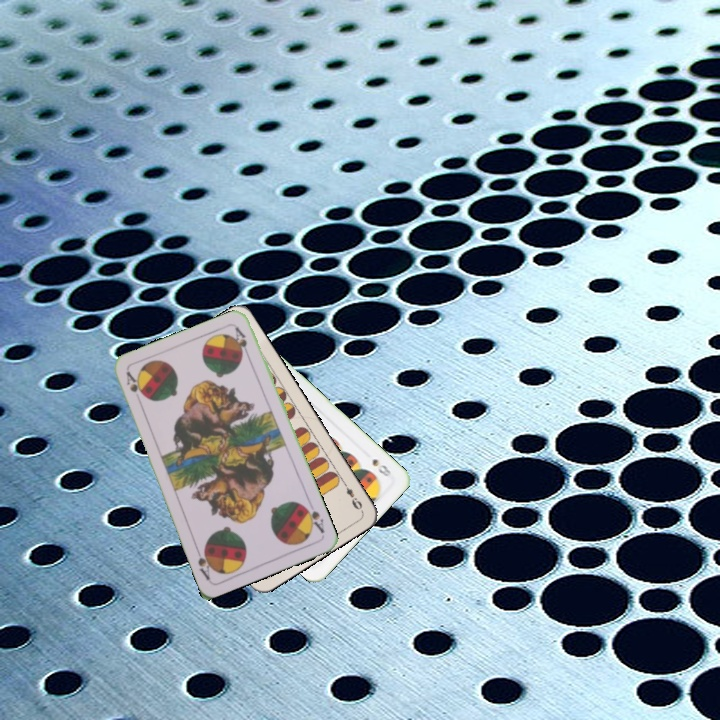E9: (338, 477, 365, 512)
S8: (368, 454, 394, 479)
SA: (122, 367, 147, 407), (299, 501, 327, 536)
